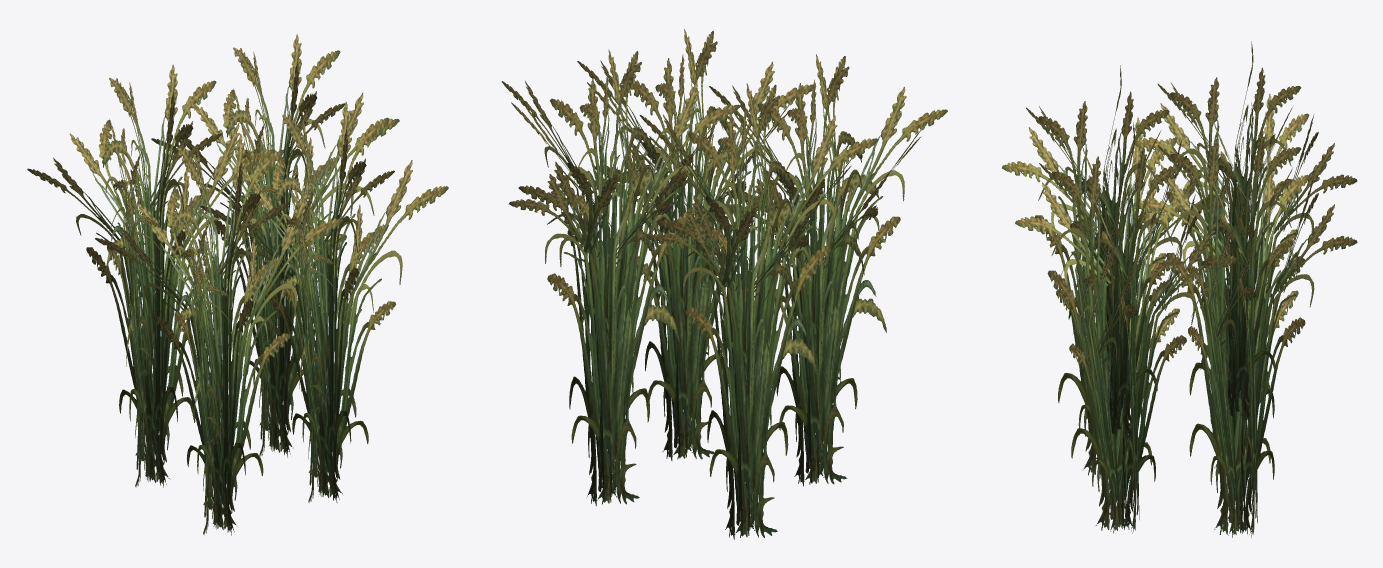
File: wm_蔬菜水稻01.fbx
3 renders of one model, left to right at view 1: azimuth 30°, elevation 25°; view 2: azimuth 150°, elevation 25°; view 3: azimuth 270°, elevation 25°, orthographic. The views are drawn at different scales.
Visible parts, largest first — view 1: wm_蔬菜水稻01; view 2: wm_蔬菜水稻01; view 3: wm_蔬菜水稻01.
Boxes of the visible parts, left/top/right/bottom form: wm_蔬菜水稻01: left=27, top=34, right=448, bottom=535; wm_蔬菜水稻01: left=501, top=29, right=947, bottom=539; wm_蔬菜水稻01: left=1002, top=41, right=1357, bottom=537.
Bounding box in the file's own units: 183 × 218 × 174.
